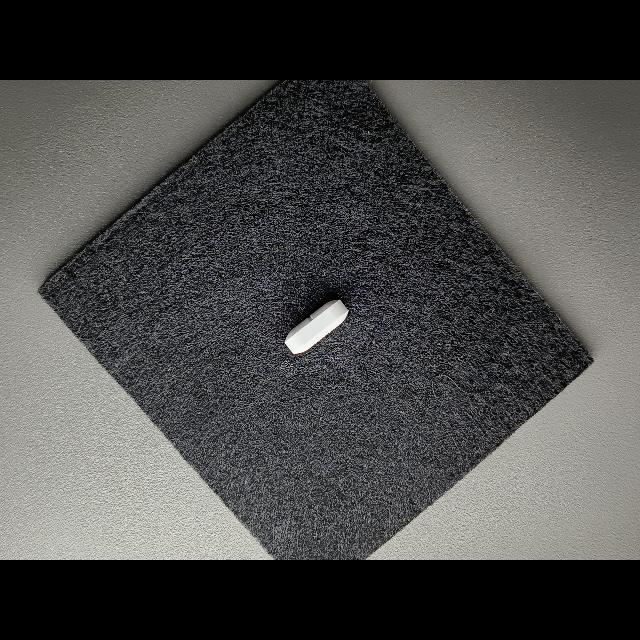Intact Pill: (284, 299, 349, 354)
